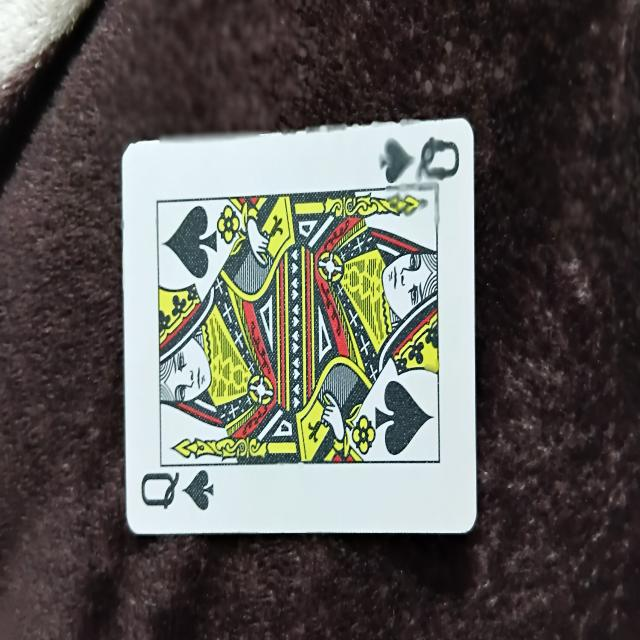QS: (121, 120, 476, 531)
